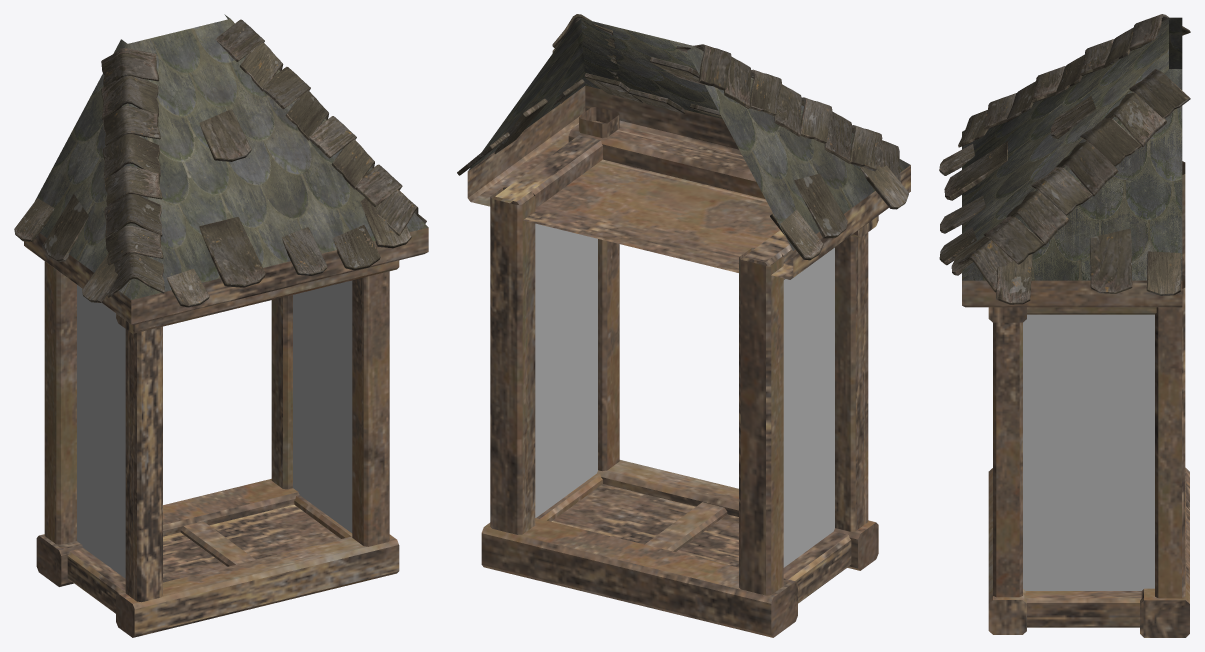
Rendered from HalfTimber_WindowBox_Square.fbx.
3 renders of one model, left to right at view 1: azimuth 30°, elevation 25°; view 2: azimuth 150°, elevation 25°; view 3: azimuth 270°, elevation 25°, orthographic. The views are drawn at different scales.
Visible parts, largest first — view 1: HalfTimber_WindowBox_Square_LOD0; view 2: HalfTimber_WindowBox_Square_LOD0; view 3: HalfTimber_WindowBox_Square_LOD0.
Part boxes in pixels (box(x1,y1,x2,y2)): HalfTimber_WindowBox_Square_LOD0: box(14, 14, 428, 637); HalfTimber_WindowBox_Square_LOD0: box(457, 14, 910, 637); HalfTimber_WindowBox_Square_LOD0: box(939, 14, 1190, 637).
Size of what is drawn, in the model's own units: 52.47 by 77.2 by 33.3.
